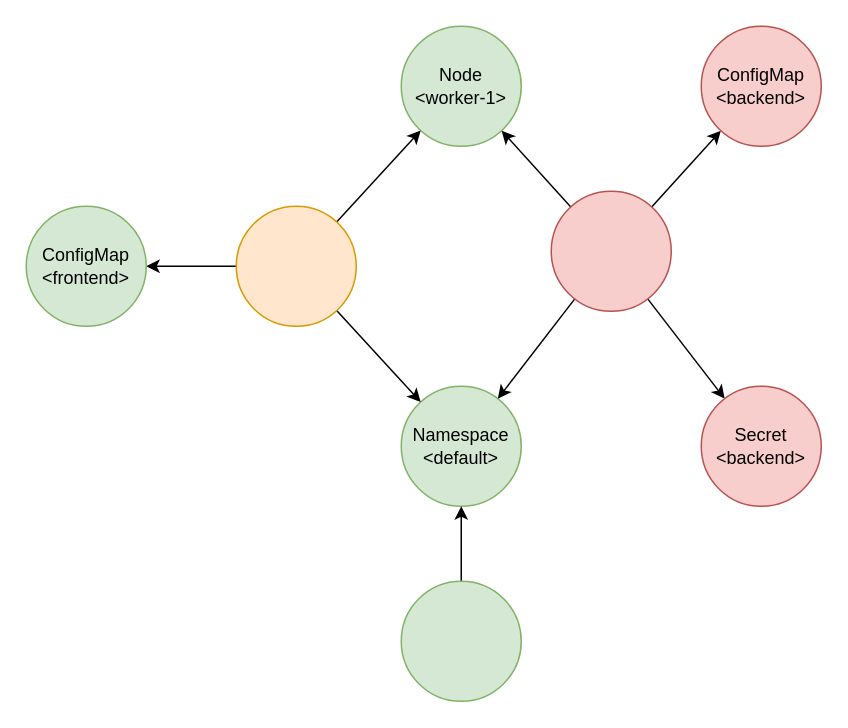
This 848x728 diagram has some shape labels left out. The shapes that lost their labels are listed below. From the top down, each one's centre as x and y in pixels, then its label:
[295,265]: Pod <Frontend>
[610,250]: Pod <Backend >
[460,640]: ResourceQuota <default-pd>
